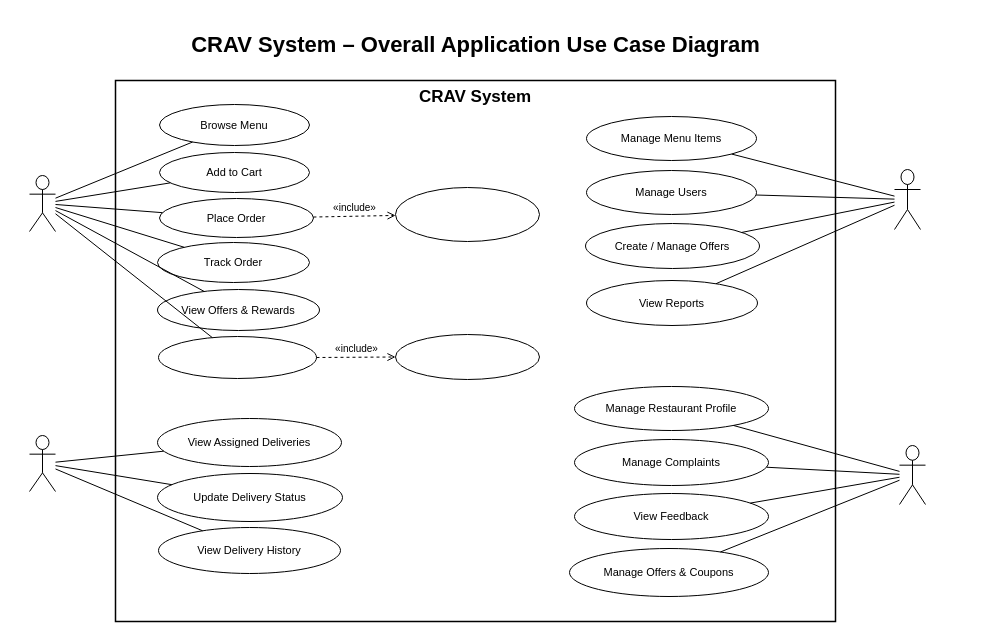
Image size: 984x639. Some labels were removed from this diagram. The centre of each missing label's shape, as x and y in pixels:
"Admin" goes at pixel 912 474.
"Customer" goes at pixel 42 203.
"Delivery Partner" goes at pixel 42 463.
"Make Payment (QR / UPI)" goes at pixel 467 214.
"Manage Account" goes at pixel 237 357.
"Staff (Restaurant + Support)" goes at pixel 907 199.
"Update Profile" goes at pixel 467 357.
